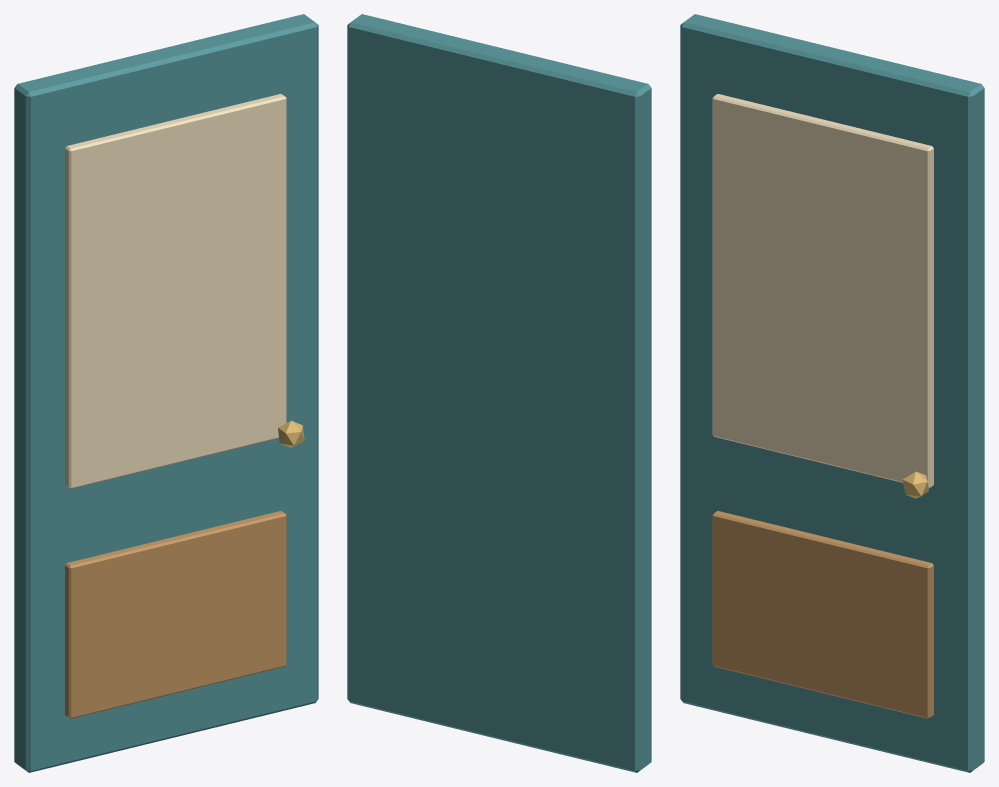
File: SM_CH_Paper_Door.fbx
3 renders of one model, left to right at view 1: azimuth 30°, elevation 25°; view 2: azimuth 150°, elevation 25°; view 3: azimuth 330°, elevation 25°, orthographic.
Visible parts, largest first — view 1: SM_CH_Paper_Door; view 2: SM_CH_Paper_Door; view 3: SM_CH_Paper_Door.
Boxes of the visible parts, x1,y1,x2,y2 form: SM_CH_Paper_Door: (14,14,318,772); SM_CH_Paper_Door: (347,14,651,772); SM_CH_Paper_Door: (680,14,984,772).
Bounding box in the file's own units: 9000 × 1840 × 20000.
